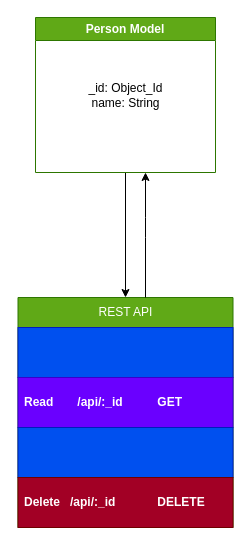
Some shapes in this 250 by 545 pixel diagram are drawn without their labels. The shapes that lost their labels are listed below. From the top down, each one's centre as x and y in pixels, then its label:
At (125,352): "Create / api/ POST".
At (125,452): "Update /api/:_id PUT".
